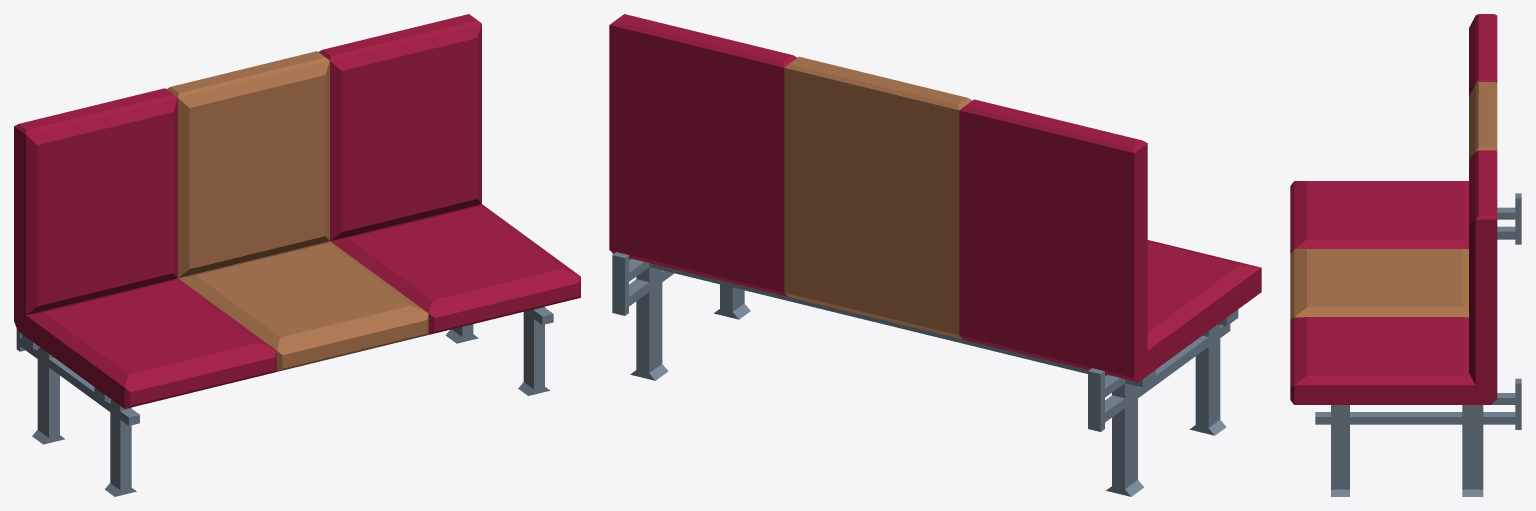
Rendered from trainchairs.glb.
The picture shows the model from 3 angles, left to right: view 1: azimuth 30°, elevation 25°; view 2: azimuth 150°, elevation 25°; view 3: azimuth 270°, elevation 25°; orthographic projection. The views are drawn at different scales.
Visible parts, largest first — view 1: Cube.001, Cube.002, Cube.003, Cube; view 2: Cube.001, Cube.002, Cube.003, Cube; view 3: Cube.003, Cube.002, Cube.001, Cube.
Part boxes in pixels (box(x1,y1,x2,y2)): Cube.001: box(14, 88, 276, 408); Cube.002: box(166, 51, 428, 371); Cube.003: box(319, 14, 580, 334); Cube: box(16, 306, 553, 496); Cube.001: box(959, 99, 1261, 382); Cube.002: box(784, 56, 972, 339); Cube.003: box(609, 14, 797, 296); Cube: box(612, 252, 1238, 496); Cube.003: box(1290, 150, 1497, 404); Cube.002: box(1290, 82, 1497, 321); Cube.001: box(1290, 14, 1497, 253); Cube: box(1315, 193, 1521, 496).
Size of the model in its own units: 3 by 1.95 by 1.44.
